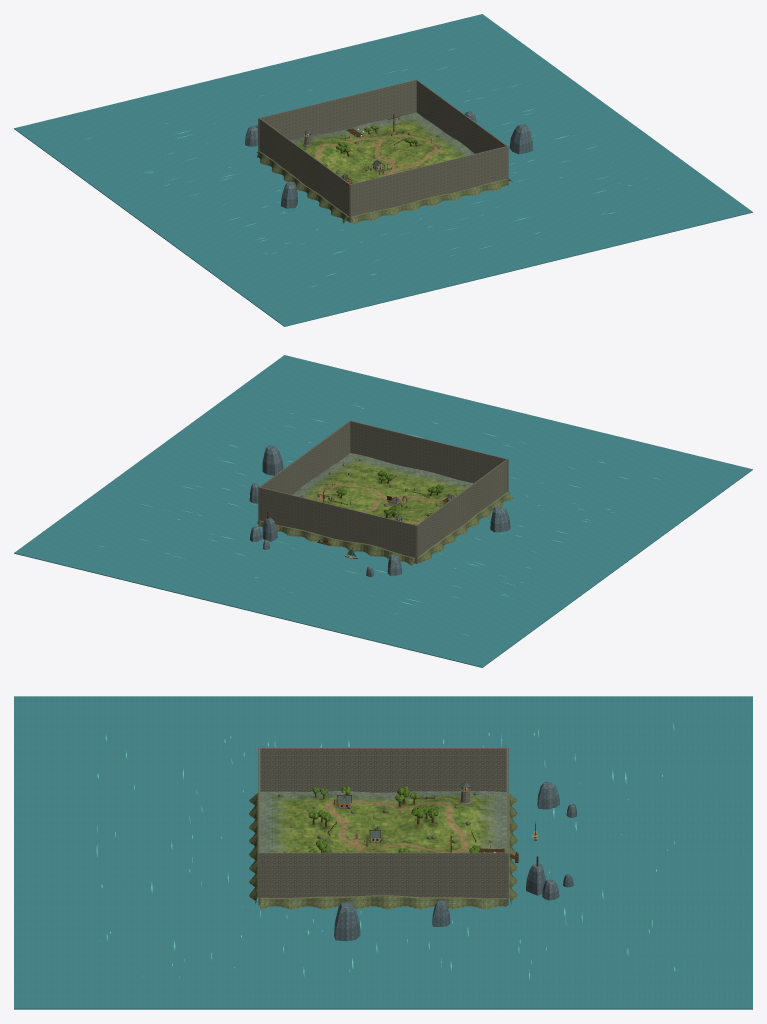
The model's file is Wrenfall-78798f1a0661.glb.
3 views of the same model, one above another, from view 1: azimuth 30°, elevation 25°; view 2: azimuth 150°, elevation 25°; view 3: azimuth 270°, elevation 25° (orthographic). The views are drawn at different scales.
Parts seen in each view (by area): view 1: Horizon, C_Solids, Terrain, Rim, Set; view 2: Horizon, C_Solids, Terrain, Rim, Set; view 3: Horizon, C_Solids, Terrain, Rim, Set.
Part boxes in pixels (left/top/right/bottom): Horizon: left=14, top=14, right=752, bottom=326; C_Solids: left=258, top=79, right=508, bottom=222; Terrain: left=291, top=112, right=474, bottom=183; Rim: left=257, top=151, right=512, bottom=224; Set: left=303, top=114, right=440, bottom=184; Horizon: left=14, top=355, right=752, bottom=667; C_Solids: left=258, top=420, right=508, bottom=563; Terrain: left=293, top=453, right=473, bottom=525; Rim: left=257, top=492, right=513, bottom=565; Set: left=300, top=459, right=457, bottom=521; Horizon: left=14, top=696, right=752, bottom=1009; C_Solids: left=258, top=747, right=508, bottom=905; Terrain: left=260, top=791, right=506, bottom=852; Rim: left=249, top=793, right=517, bottom=909; Set: left=278, top=781, right=504, bottom=852.
Size of the model in its own units: 360 by 31.57 by 360.
Materials: 31 (31 with a texture image).
